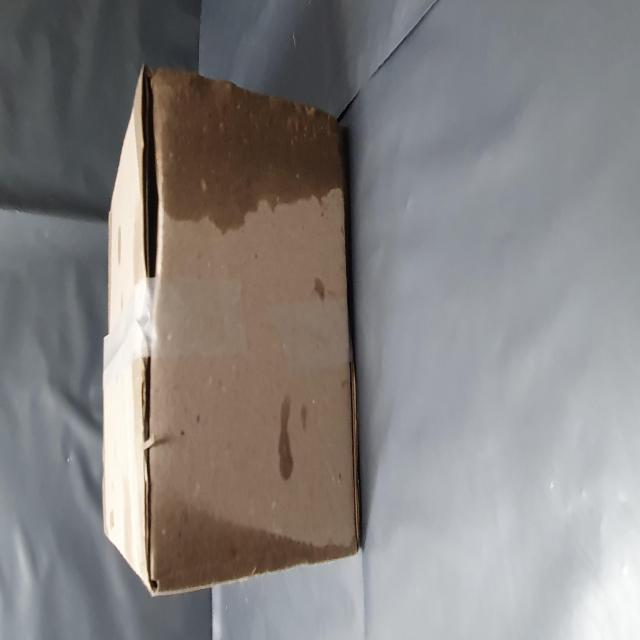wet: (31, 267, 140, 606), (232, 267, 322, 609)
